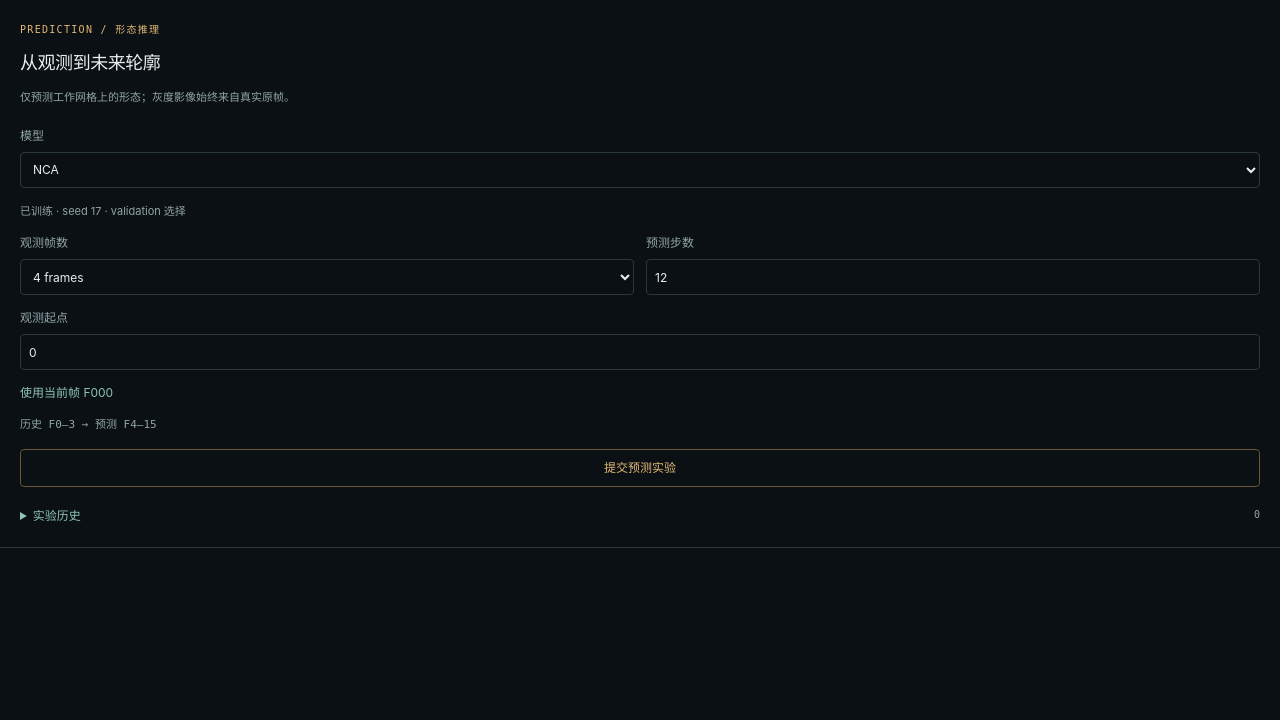
cancels a queued job through the API and shows its terminal state
Click the button "提交预测实验" at (640, 468), box [20,449,1260,487]
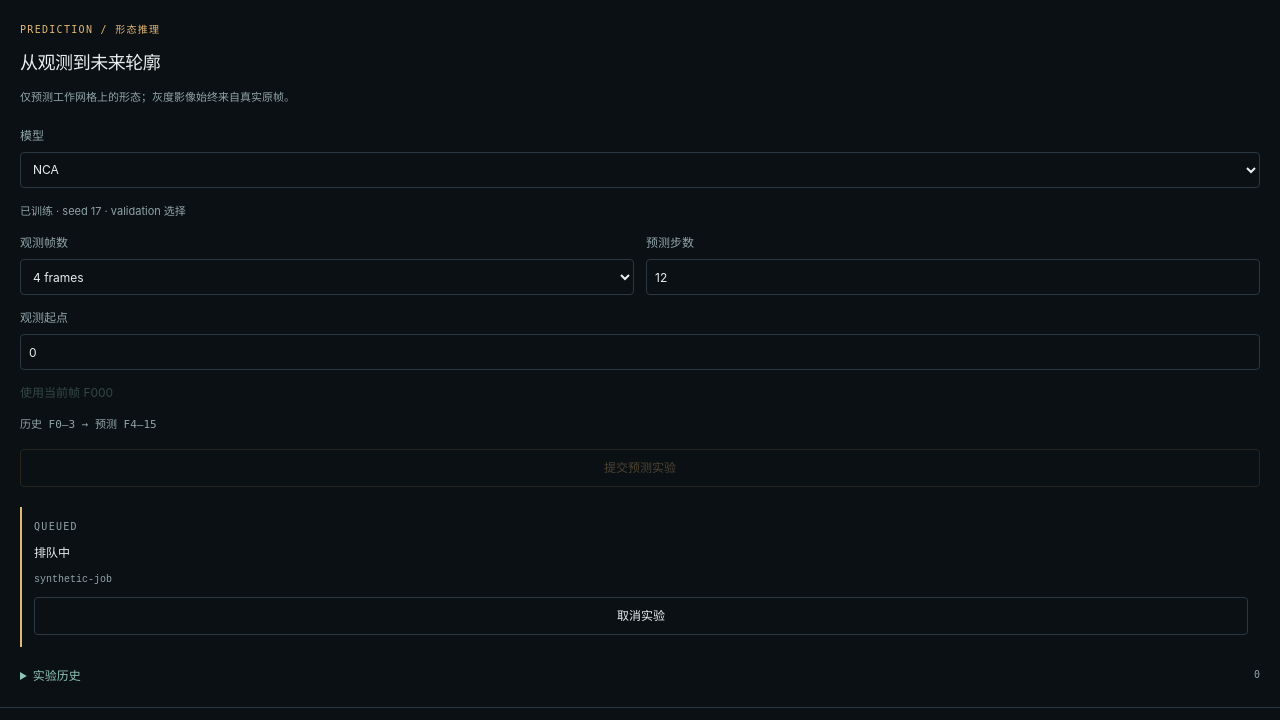
Click the button "取消实验" at (641, 616), box [34,597,1248,635]
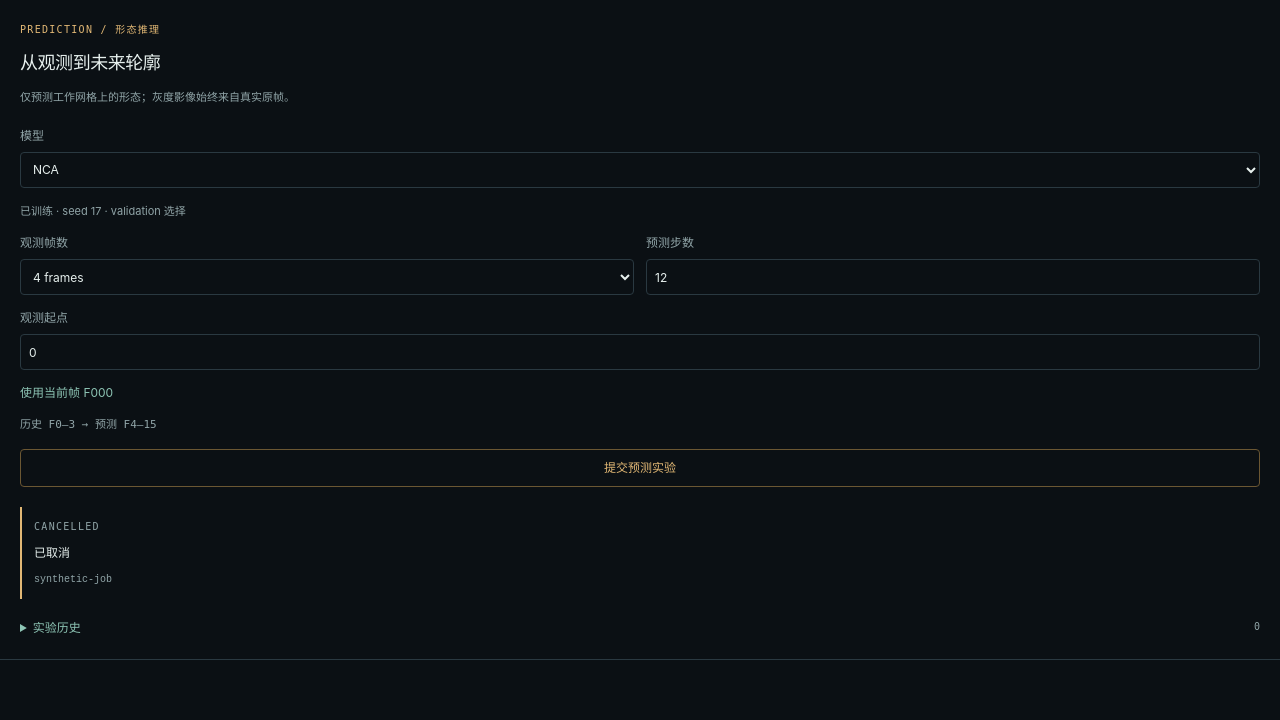
expect the text "已取消" is shown: met, box [34,545,70,560]
